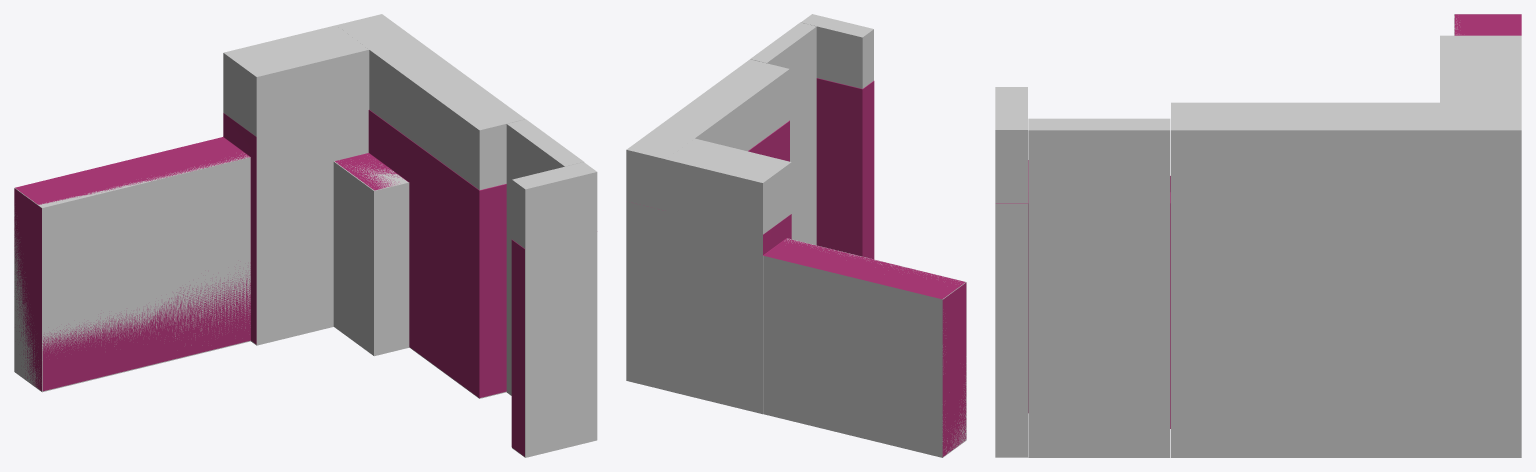
File: StudioLuxuryInnerWall_02_Mesh.fbx
3 renders of one model, left to right at view 1: azimuth 30°, elevation 25°; view 2: azimuth 150°, elevation 25°; view 3: azimuth 270°, elevation 25°, orthographic. The views are drawn at different scales.
Visible parts, largest first — view 1: StudioLuxuryInnerWall_02_COL, StudioLuxuryInnerWall_02_Mesh; view 2: StudioLuxuryInnerWall_02_COL, StudioLuxuryInnerWall_02_Mesh; view 3: StudioLuxuryInnerWall_02_COL, StudioLuxuryInnerWall_02_Mesh.
Part boxes in pixels (x1,y1,x2,y2): StudioLuxuryInnerWall_02_COL: (14, 14, 597, 457); StudioLuxuryInnerWall_02_Mesh: (14, 109, 524, 456); StudioLuxuryInnerWall_02_COL: (626, 14, 966, 457); StudioLuxuryInnerWall_02_Mesh: (748, 78, 966, 456); StudioLuxuryInnerWall_02_COL: (995, 14, 1521, 457); StudioLuxuryInnerWall_02_Mesh: (996, 14, 1521, 428).
Size of the model in its own units: 926 by 646 by 940.
